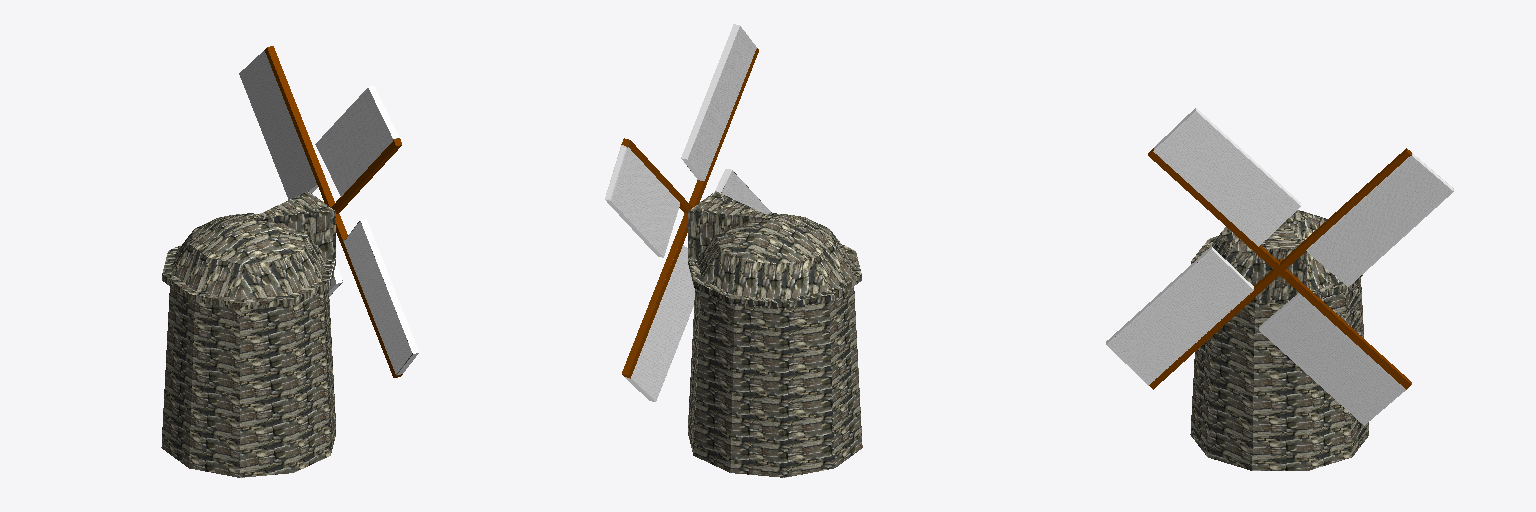
3 renders of one model, left to right at view 1: azimuth 30°, elevation 25°; view 2: azimuth 150°, elevation 25°; view 3: azimuth 270°, elevation 25°, orthographic.
Visible parts, largest first — view 1: Circle.001; view 2: Circle.001; view 3: Circle.001.
Boxes of the visible parts, <box> form: Circle.001: <box>161,46,418,477</box>; Circle.001: <box>605,24,862,477</box>; Circle.001: <box>1106,108,1453,470</box>.
Size of the model in its own units: 6.25 by 13.51 by 11.66.
1 materials, 1 textured.